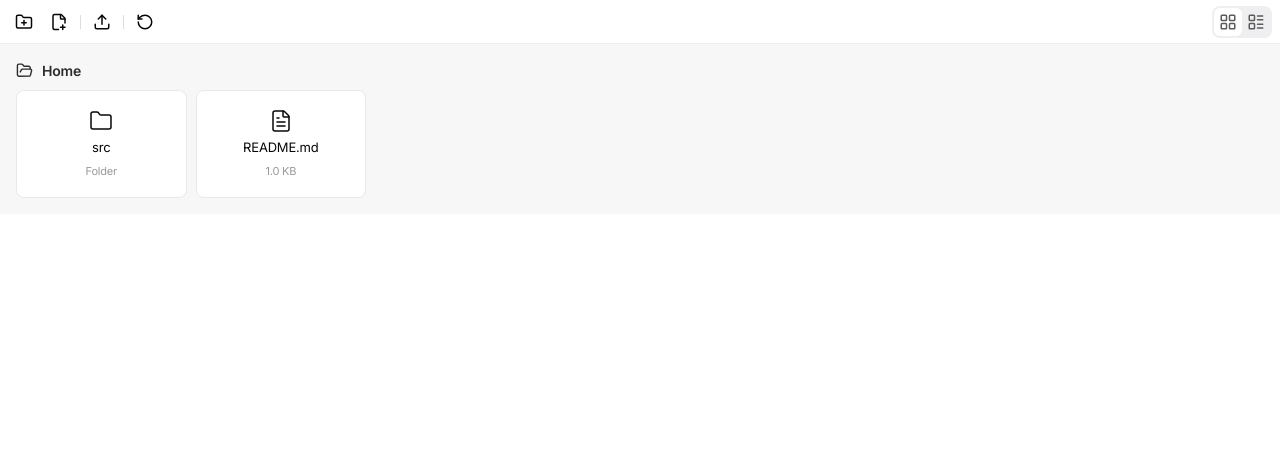
Test: WorkspacePanel › opens context menu on right-click
Step 1. Right-click the element with class "file-card" showing "README .md 1.0 KB" → (281, 144), box [196,90,366,198]
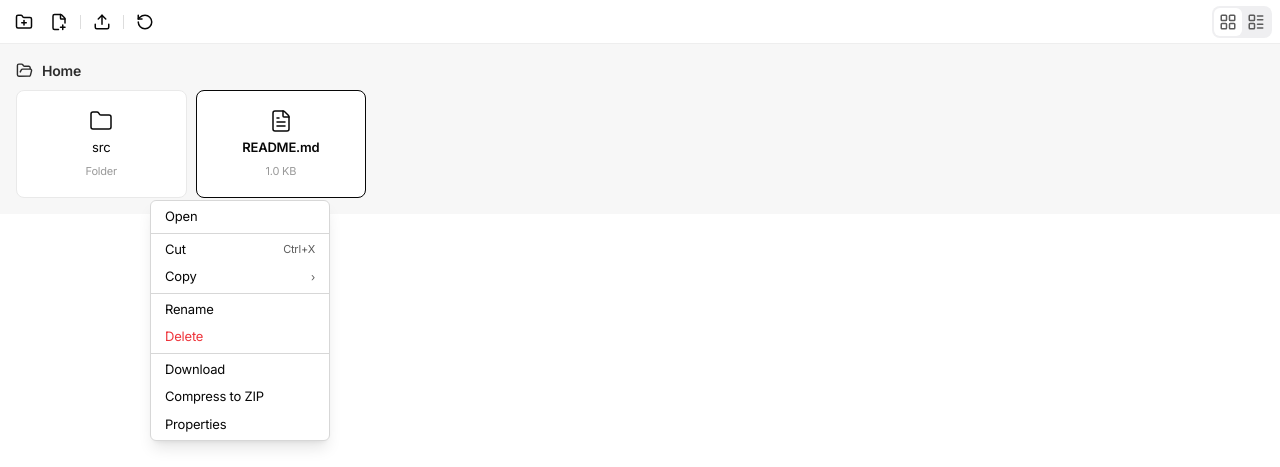
Expected: the element that starts with "Open" is shown, [150,200,330,441]
